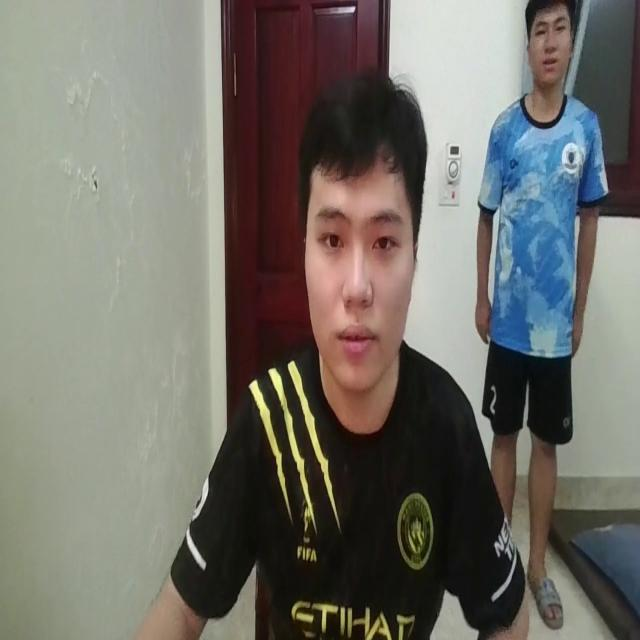extra_person: (476, 2, 610, 640)
student: (124, 77, 528, 640)
